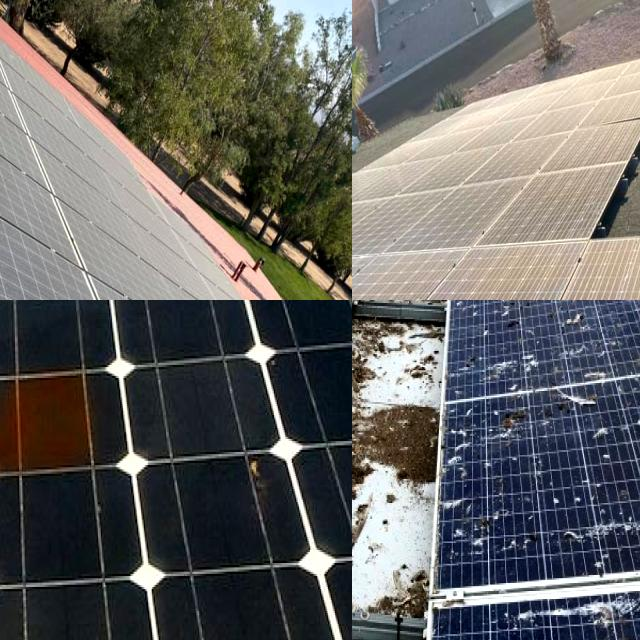bird: (563, 502, 640, 577), (448, 514, 533, 560), (352, 581, 407, 639), (494, 391, 546, 444), (592, 412, 632, 469), (352, 478, 399, 520), (486, 300, 529, 341), (565, 300, 602, 347), (352, 528, 392, 567), (472, 300, 525, 323), (352, 350, 369, 419), (352, 300, 389, 327), (352, 385, 367, 426), (352, 357, 364, 393), (352, 300, 363, 324)
dust: (534, 80, 638, 164), (0, 124, 56, 265), (70, 206, 152, 300), (30, 104, 104, 194), (452, 248, 573, 300), (0, 0, 49, 107), (454, 106, 522, 178), (352, 249, 436, 300), (529, 166, 590, 234), (449, 200, 524, 248), (376, 154, 446, 196), (352, 208, 427, 247), (163, 271, 239, 300), (352, 168, 377, 206), (352, 226, 368, 257)
shadow: (0, 359, 116, 479), (0, 487, 94, 595)
